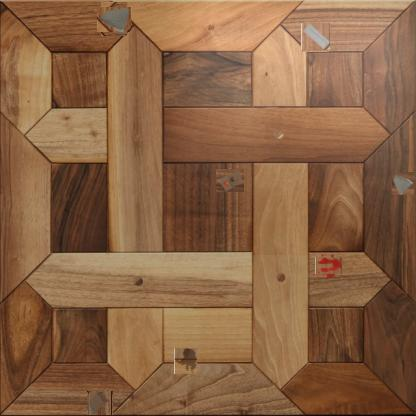dirty: (99, 4, 129, 34), (301, 23, 330, 52), (218, 167, 244, 193), (88, 391, 112, 416), (392, 171, 415, 195)
liquid: (174, 348, 197, 374), (318, 254, 340, 277)
